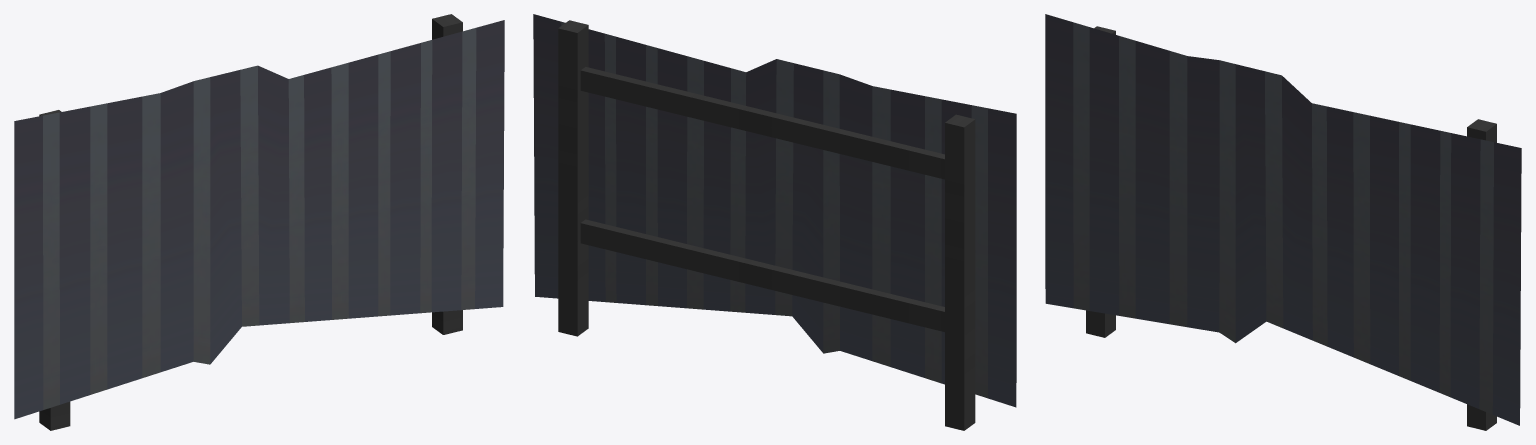
The model's file is SM_Fence_Metal_1.FBX.
3 renders of one model, left to right at view 1: azimuth 30°, elevation 25°; view 2: azimuth 150°, elevation 25°; view 3: azimuth 330°, elevation 25°, orthographic. The views are drawn at different scales.
Parts seen in each view (by area): view 1: SM_Fence_Metal_1; view 2: SM_Fence_Metal_1; view 3: SM_Fence_Metal_1.
Boxes of the visible parts, bbox=[...] form: SM_Fence_Metal_1: bbox=[14, 14, 504, 430]; SM_Fence_Metal_1: bbox=[533, 14, 1016, 430]; SM_Fence_Metal_1: bbox=[1045, 14, 1521, 430].
Size of what is drawn, in the model's own units: 500 by 24.71 by 313.
